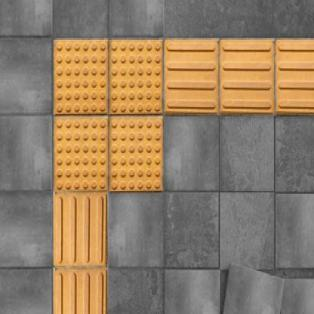Podoctatil: (51, 34, 313, 314)
